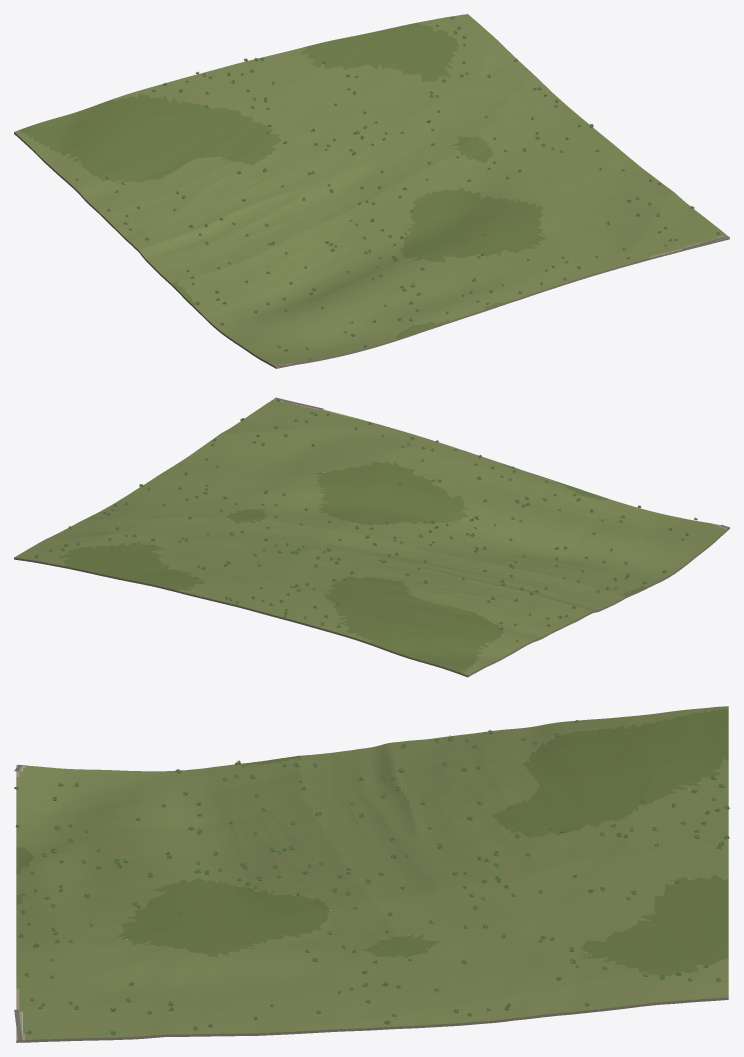
File: parca_+8_-2-yakin.glb
The picture shows the model from 3 angles, top to bottom: view 1: azimuth 30°, elevation 25°; view 2: azimuth 150°, elevation 25°; view 3: azimuth 270°, elevation 25°; orthographic projection. The views are drawn at different scales.
Parts seen in each view (by area): view 1: parca_+8_-2_arazi, parca_+8_-2_bitkiler; view 2: parca_+8_-2_arazi, parca_+8_-2_bitkiler; view 3: parca_+8_-2_arazi, parca_+8_-2_bitkiler.
Part boxes in pixels (left/top/right/bottom): parca_+8_-2_arazi: left=14, top=14, right=729, bottom=368; parca_+8_-2_bitkiler: left=75, top=17, right=720, bottom=360; parca_+8_-2_arazi: left=14, top=397, right=729, bottom=677; parca_+8_-2_bitkiler: left=35, top=399, right=697, bottom=643; parca_+8_-2_arazi: left=16, top=706, right=728, bottom=1042; parca_+8_-2_bitkiler: left=14, top=720, right=729, bottom=1035.
Bounding box in the file's own units: 1001 × 142 × 1005.
